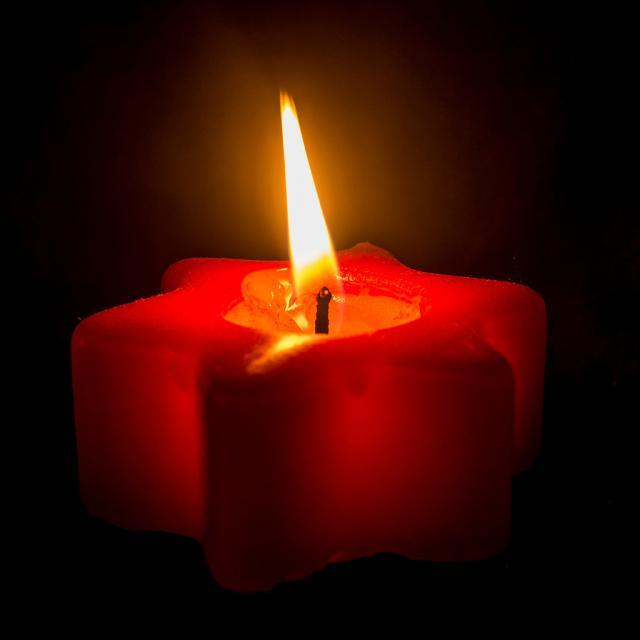Fire: (286, 126, 330, 284)
